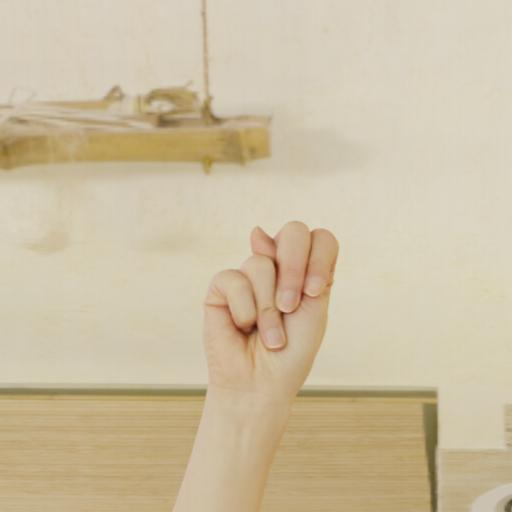N: (195, 214, 342, 392)
